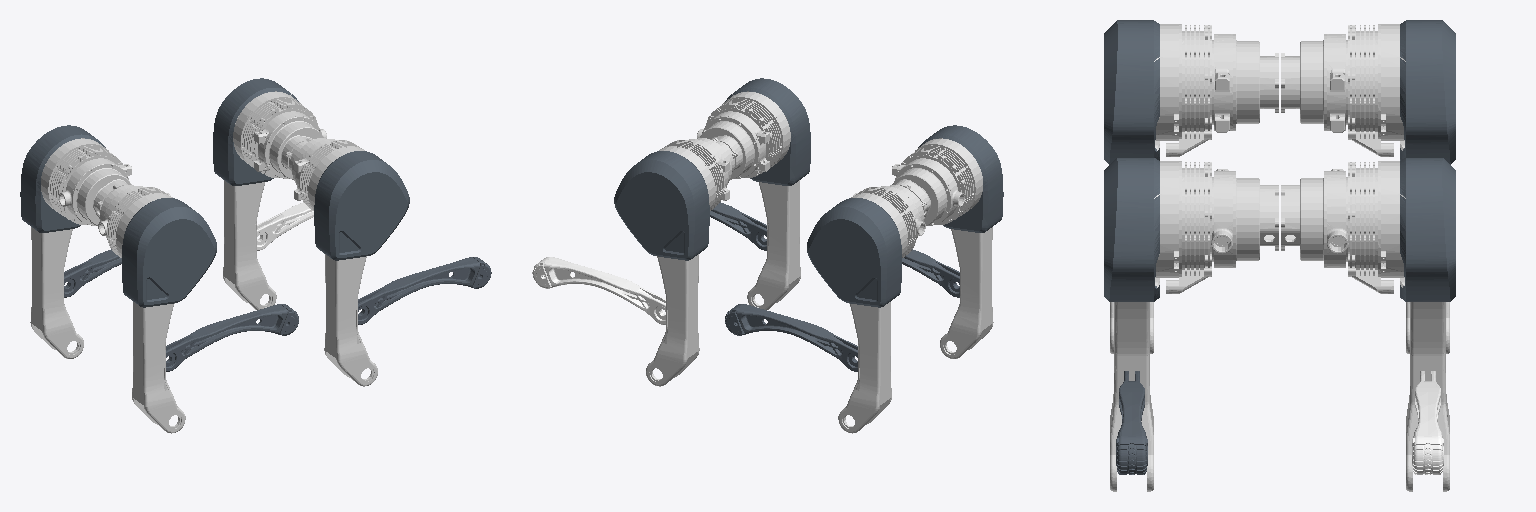
The robot description file, URDF, robot "Lite3":
<?xml version="1.0" encoding="utf-8"?>
<!-- This URDF was automatically created by SolidWorks to URDF Exporter! Originally created by [author] ([email redacted]) 
     Commit Version: 1.6.0-4-g7f85cfe  Build Version: 1.6.7995.38578
     For more information, please see http://wiki.ros.org/sw_urdf_exporter -->
<robot name="Lite3">
    <mujoco>
        <compiler meshdir="../meshes/" balanceinertia="false" discardvisual="false"/>
    </mujoco>
    <link name="TORSO">
        <inertial>
            <origin/>
            <mass value="5.6056"/>
            <inertia ixx="0.02456" ixy="0" ixz="0" iyy="0.05518" iyz="0" izz="0.07016"/>
        </inertial>
        <visual>
            <geometry>
                <mesh filename="../meshes/torso.dae"/>
            </geometry>
        </visual>
        <collision>
            <origin xyz="0 0 0.01"/>
            <geometry>
                <box size="0.5 0.1 0.12"/>
            </geometry>
        </collision>
        <collision>
            <origin xyz="0 0 0.01"/>
            <geometry>
                <box size="0.25 0.2 0.12"/>
            </geometry>
        </collision>
    </link>

    <!--!!!!!!!!!!!! Front Left Leg !!!!!!!!!!!!!!!!!!!!!!!!!!!!!!!!!!!!-->

    <link name="FL_HIP">
        <inertial>
            <origin xyz="-0.00601 -0.0066532 0.00034295"/>
            <mass value="0.550"/>
            <inertia ixx="0.0003949" ixy="0" ixz="0" iyy="0.0004028" iyz="0" izz="0.0004472"/>
        </inertial>
        <visual>
            <geometry>
                <mesh filename="../meshes/hip.dae"/>
            </geometry>
        </visual>
        <collision>
            <origin xyz="0 0.05 0" rpy="1.57079632 0 0"/>
            <geometry>
                <cylinder length="0.15" radius="0.04"/>
            </geometry>
        </collision>
    </link>
    <joint name="FL_HipX_joint" type="revolute">
        <origin xyz="0.1745 0.062 0"/>
        <parent link="TORSO"/>
        <child link="FL_HIP"/>
        <axis xyz="-1 0 0"/>
        <limit lower="-0.523" upper="0.523" effort="24" velocity="26.2"/>
    </joint>
    <link name="FL_THIGH">
        <inertial>
            <origin xyz="-0.0052817 -0.014632 -0.042672"/>
            <mass value="0.86"/>
            <inertia ixx="0.005736" ixy="0" ixz="0" iyy="0.004960" iyz="0" izz="0.001436"/>
        </inertial>
        <visual>
            <geometry>
                <mesh filename="../meshes/thigh.dae"/>
            </geometry>
        </visual>
        <collision>
            <origin xyz="-0.015 0 -0.08" />
            <geometry>
                <box size="0.04 0.045 0.2"/>
            </geometry>
        </collision>
    </link>
    <joint name="FL_HipY_joint" type="revolute">
        <origin xyz="0 0.09735 0"/>
        <parent link="FL_HIP"/>
        <child link="FL_THIGH"/>
        <axis xyz="0 -1 0"/>
        <limit lower="-2.67" upper="0.314" effort="24" velocity="26.2"/>
    </joint>
    <link name="FL_SHANK">
        <inertial>
            <origin xyz="0.0064794 -1.4535E-06 -0.12157"/>
            <mass value="0.153"/>
            <inertia ixx="0.00089039" ixy="0" ixz="0" iyy="0.00090672" iyz="0" izz="3.1266E-05"/>
        </inertial>
        <visual>
            <geometry>
                <mesh filename="../meshes/shank.dae"/>
            </geometry>
            <material name="">
                <color rgba="1 1 1 1"/>
            </material>
        </visual>
        <collision>
            <origin xyz="0.005 0 -0.03" rpy="0 -0.2 0"/>
            <geometry>
                <cylinder length="0.12" radius="0.015"/>
            </geometry>
        </collision>
        <collision>
            <origin xyz="0.01 0 -0.14" rpy="0 0.15 0"/>
            <geometry>
                <cylinder length="0.10" radius="0.015"/>
            </geometry>
        </collision>
    </link>
    <joint name="FL_Knee_joint" type="revolute">
        <origin xyz="0 0 -0.20"/>
        <parent link="FL_THIGH"/>
        <child link="FL_SHANK"/>
        <axis xyz="0 -1 0"/>
        <limit lower="0.524" upper="2.792" effort="36" velocity="17.3"/>
    </joint>

    <link name="FL_FOOT">
        <collision>
            <origin rpy="1.57079632679 0 0" />
            <geometry>
                <sphere radius="0.022"/>
            </geometry>
        </collision>
        <inertial>
            <mass value="0.02"/>
            <inertia ixx="0" ixy="0" ixz="0" iyy="0" iyz="0" izz="0"/>
        </inertial>
    </link>

    <joint name="FL_Ankle" type="fixed" dont_collapse="true">
        <parent link="FL_SHANK"/>
        <child link="FL_FOOT"/>
        <origin xyz="0 0 -0.21012"/>
    </joint>

    <!--!!!!!!!!!!!! Front Right Leg !!!!!!!!!!!!!!!!!!!!!!!!!!!!!!!!!!!!-->
    <link name="FR_HIP">
        <inertial>
            <origin xyz="-0.010579 0.011358 0.00048546"/>
            <mass value="0.550"/>
            <inertia ixx="0.0004472" ixy="0" ixz="0" iyy="0.0004028" iyz="0" izz="0.0003949"/>
        </inertial>
        <visual>
            <geometry>
                <mesh filename="../meshes/hip.dae" scale="1 -1 1"/>
            </geometry>
        </visual>
        <collision>
            <origin xyz="0 -0.05 0" rpy="1.57079632 0 0"/>
            <geometry>
                <cylinder length="0.15" radius="0.04"/>
            </geometry>
        </collision>
    </link>
    <joint name="FR_HipX_joint" type="revolute">
        <origin xyz="0.1745 -0.062 0"/>
        <parent link="TORSO"/>
        <child link="FR_HIP"/>
        <axis xyz="-1 0 0"/>
        <limit lower="-0.523" upper="0.523" effort="24" velocity="26.2"/>
    </joint>
    <link name="FR_THIGH">
        <inertial>
            <origin xyz="-0.0039245 0.025256 -0.025146"/>
            <mass value="0.86"/>
            <!-- inertia ixx="0.00433" ixy="0.00001" ixz="0.00034" iyy="0.00403"  iyz="-0.0000186" izz="0.00143" -->
            <inertia ixx="0.005736" ixy="0" ixz="0" iyy="0.004960" iyz="0" izz="0.001436"/>
        </inertial>
        <visual>
            <geometry>
                <mesh filename="../meshes/thigh.dae" scale="1 -1 1"/>
            </geometry>
        </visual>
        <collision>
            <origin xyz="-0.015 0 -0.08" />
            <geometry>
                <box size="0.04 0.045 0.2"/>
            </geometry>
        </collision>
    </link>
    <joint name="FR_HipY_joint" type="revolute">
        <origin xyz="0 -0.09735 0"/>
        <parent link="FR_HIP"/>
        <child link="FR_THIGH"/>
        <axis xyz="0 -1 0"/>
        <limit lower="-2.67" upper="0.314" effort="24" velocity="26.2"/>
    </joint>
    <link name="FR_SHANK">
        <inertial>
            <origin xyz="0.0064794 -1.4552E-06 -0.12157"/>
            <mass value="0.153"/>
            <inertia ixx="0.00089039" ixy="0" ixz="0" iyy="0.00090672" iyz="0" izz="3.1266E-05"/>
        </inertial>
        <visual>
            <geometry>
                <mesh filename="../meshes/shank.dae"/>
            </geometry>
        </visual>
        <collision>
            <origin xyz="0.005 0 -0.03" rpy="0 -0.2 0"/>
            <geometry>
                <cylinder length="0.12" radius="0.015"/>
            </geometry>
        </collision>
        <collision>
            <origin xyz="0.01 0 -0.14" rpy="0 0.15 0"/>
            <geometry>
                <cylinder length="0.10" radius="0.015"/>
            </geometry>
        </collision>
    </link>
    <joint name="FR_Knee_joint" type="revolute">
        <origin xyz="0 0 -0.20"/>
        <parent link="FR_THIGH"/>
        <child link="FR_SHANK"/>
        <axis xyz="0 -1 0"/>
        <limit lower="0.524" upper="2.792" effort="36" velocity="17.3"/>
    </joint>

    <link name="FR_FOOT">
        <collision>
            <origin rpy="1.57079632679 0 0" />
            <geometry>
                <sphere radius="0.022"/>
            </geometry>
        </collision>
        <inertial>
            <mass value="0.02"/>
            <inertia ixx="0" ixy="0" ixz="0" iyy="0" iyz="0" izz="0"/>
        </inertial>
    </link>

    <joint name="FR_Ankle" type="fixed" dont_collapse="true">
        <parent link="FR_SHANK"/>
        <child link="FR_FOOT"/>
        <origin xyz="0 0 -0.21012"/>
    </joint>

    <!--!!!!!!!!!!!! Back Left Leg !!!!!!!!!!!!!!!!!!!!!!!!!!!!!!!!!!!!-->
    <link name="HL_HIP">
        <inertial>
            <origin xyz="0.010905 -0.012636 0.001051"/>
            <mass value="0.550"/>
            <inertia ixx="0.0003949" ixy="0" ixz="0" iyy="0.0004028" iyz="0" izz="0.0004472"/>
        </inertial>
        <visual>
            <geometry>
                <mesh filename="../meshes/hip.dae" scale="-1 1 1"/>
            </geometry>
        </visual>
        <collision>
            <origin xyz="0 0.05 0" rpy="1.57079632 0 0"/>
            <geometry>
                <cylinder length="0.15" radius="0.04"/>
            </geometry>
        </collision>
    </link>
    <joint name="HL_HipX_joint" type="revolute">
        <origin xyz="-0.1745 0.062 0"/>
        <parent link="TORSO"/>
        <child link="HL_HIP"/>
        <axis xyz="-1 0 0"/>
        <limit lower="-0.523" upper="0.523" effort="24" velocity="26.2"/>
    </joint>
    <link name="HL_THIGH">
        <inertial>
            <origin xyz="-0.0057137 -0.014631 -0.042453"/>
            <mass value="0.86"/>
            <inertia ixx="0.005736" ixy="0" ixz="0" iyy="0.004960" iyz="0" izz="0.001436"/>
        </inertial>
        <visual>
            <geometry>
                <mesh filename="../meshes/thigh.dae"/>
            </geometry>
        </visual>
        <collision>
            <origin xyz="-0.015 0 -0.08" />
            <geometry>
                <box size="0.04 0.045 0.2"/>
            </geometry>
        </collision>
    </link>
    <joint name="HL_HipY_joint" type="revolute">
        <origin xyz="0 0.09735 0"/>
        <parent link="HL_HIP"/>
        <child link="HL_THIGH"/>
        <axis xyz="0 -1 0"/>
        <limit lower="-2.67" upper="0.314" effort="24" velocity="26.2"/>
    </joint>
    <link name="HL_SHANK">
        <inertial>
            <origin xyz="0.0064794 -1.4558E-06 -0.12157"/>
            <mass value="0.153"/>
            <inertia ixx="0.00089039" ixy="0" ixz="0" iyy="0.00090672" iyz="0" izz="3.1266E-05"/>
        </inertial>
        <visual>
            <geometry>
                <mesh filename="../meshes/shank.dae"/>
            </geometry>
        </visual>
        <collision>
            <origin xyz="0.005 0 -0.03" rpy="0 -0.2 0"/>
            <geometry>
                <cylinder length="0.12" radius="0.015"/>
            </geometry>
        </collision>
        <collision>
            <origin xyz="0.01 0 -0.14" rpy="0 0.15 0"/>
            <geometry>
                <cylinder length="0.10" radius="0.015"/>
            </geometry>
        </collision>
    </link>
    <joint name="HL_Knee_joint" type="revolute">
        <origin xyz="0 0 -0.20"/>
        <parent link="HL_THIGH"/>
        <child link="HL_SHANK"/>
        <axis xyz="0 -1 0"/>
        <limit lower="0.524" upper="2.792" effort="36" velocity="17.3"/>
    </joint>

    <link name="HL_FOOT">
        <collision>
            <origin rpy="1.57079632679 0 0" />
            <geometry>
                <sphere radius="0.022"/>
            </geometry>
        </collision>
        <inertial>
            <mass value="0.02"/>
            <inertia ixx="0" ixy="0" ixz="0" iyy="0" iyz="0" izz="0"/>
        </inertial>
    </link>

    <joint name="HL_Ankle" type="fixed" dont_collapse="true">
        <parent link="HL_SHANK"/>
        <child link="HL_FOOT"/>
        <origin xyz="0 0 -0.21012"/>
    </joint>
    <!--!!!!!!!!!!!! Back Right Leg !!!!!!!!!!!!!!!!!!!!!!!!!!!!!!!!!!!!-->

    <link name="HR_HIP">
        <inertial>
            <origin xyz="0.010354 0.011423 0.00049498"/>
            <mass value="0.550"/>
            <inertia ixx="0.0004472" ixy="0" ixz="0" iyy="0.0004028" iyz="0" izz="0.0003949"/>
        </inertial>
        <visual>
            <geometry>
                <mesh filename="../meshes/hip.dae" scale="-1 -1 1"/>
            </geometry>
        </visual>
        <collision>
            <origin xyz="0 -0.05 0" rpy="1.57079632 0 0"/>
            <geometry>
                <cylinder length="0.15" radius="0.04"/>
            </geometry>
        </collision>
    </link>
    <joint name="HR_HipX_joint" type="revolute">
        <origin xyz="-0.1745 -0.062 0"/>
        <parent link="TORSO"/>
        <child link="HR_HIP"/>
        <axis xyz="-1 0 0"/>
        <limit lower="-0.523" upper="0.523" effort="24" velocity="26.2"/>
    </joint>
    <link name="HR_THIGH">
        <inertial>
            <origin xyz="-0.0031903 0.02526 -0.025617"/>
            <mass value="0.86"/>
            <inertia ixx="0.005736" ixy="0" ixz="0" iyy="0.004960" iyz="0" izz="0.001436"/>
        </inertial>
        <visual>
            <geometry>
                <mesh filename="../meshes/thigh.dae" scale="1 -1 1"/>
            </geometry>
        </visual>
        <collision>
            <origin xyz="-0.015 0 -0.08" />
            <geometry>
                <box size="0.04 0.045 0.2"/>
            </geometry>
        </collision>
    </link>
    <joint name="HR_HipY_joint" type="revolute">
        <origin xyz="0 -0.09735 0"/>
        <parent link="HR_HIP"/>
        <child link="HR_THIGH"/>
        <axis xyz="0 -1 0"/>
        <limit lower="-2.67" upper="0.314" effort="24" velocity="26.2"/>
    </joint>
    <link name="HR_SHANK">
        <inertial>
            <origin xyz="0.0064794 -1.4529E-06 -0.12157"/>
            <mass value="0.153"/>
            <inertia ixx="0.00089039" ixy="0" ixz="0" iyy="0.00090672" iyz="0" izz="3.1266E-05"/>
        </inertial>
        <visual>
            <geometry>
                <mesh filename="../meshes/shank.dae"/>
            </geometry>
        </visual>
        <collision>
            <origin xyz="0.005 0 -0.03" rpy="0 -0.2 0"/>
            <geometry>
                <cylinder length="0.12" radius="0.015"/>
            </geometry>
        </collision>
        <collision>
            <origin xyz="0.01 0 -0.14" rpy="0 0.15 0"/>
            <geometry>
                <cylinder length="0.10" radius="0.015"/>
            </geometry>
        </collision>
    </link>
    <joint name="HR_Knee_joint" type="revolute">
        <origin xyz="0 0 -0.20"/>
        <parent link="HR_THIGH"/>
        <child link="HR_SHANK"/>
        <axis xyz="0 -1 0"/>
        <limit lower="0.524" upper="2.792" effort="36" velocity="17.3"/>
    </joint>

    <link name="HR_FOOT">
        <collision>
            <origin rpy="1.57079632679 0 0" />
            <geometry>
                <sphere radius="0.022"/>
            </geometry>
        </collision>
        <inertial>
            <mass value="0.02"/>
            <inertia ixx="0" ixy="0" ixz="0" iyy="0" iyz="0" izz="0"/>
        </inertial>
    </link>

    <joint name="HR_Ankle" type="fixed" dont_collapse="true">
        <parent link="HR_SHANK"/>
        <child link="HR_FOOT"/>
        <origin xyz="0 0 -0.21012"/>
    </joint>
</robot>

--- What the picture shows (computed from the rendered views, not written in the file) ---
The picture shows the robot from 3 angles, left to right: view 1: azimuth 30°, elevation 25°; view 2: azimuth 150°, elevation 25°; view 3: azimuth 270°, elevation 25°; orthographic projection.
Model Lite3 with 17 links and 16 joints (12 revolute, 4 fixed), rooted at TORSO, posed all joints at 0 but 4 set to mid-range because 0 is outside their limits (FL_Knee_joint = 1.66, FR_Knee_joint = 1.66, HL_Knee_joint = 1.66, HR_Knee_joint = 1.66).
Visible links, largest first — view 1: HR_THIGH, FR_THIGH, HL_THIGH, FL_THIGH, FR_SHANK, HR_SHANK, HL_HIP, FL_HIP, HL_SHANK, FL_SHANK, FR_HIP, HR_HIP; view 2: HL_THIGH, FL_THIGH, HR_THIGH, FR_THIGH, FL_SHANK, HL_SHANK, HR_HIP, FR_HIP, HR_SHANK, FR_SHANK, FL_HIP, HL_HIP; view 3: FL_THIGH, FR_THIGH, HL_THIGH, HR_THIGH, FL_HIP, FR_HIP, HL_HIP, HR_HIP, FL_SHANK, FR_SHANK.
Link boxes in pixels (x1=…): HR_THIGH: x1=107, y1=187, x2=216, y2=433; FR_THIGH: x1=299, y1=140, x2=409, y2=386; HL_THIGH: x1=20, y1=125, x2=122, y2=358; FL_THIGH: x1=213, y1=78, x2=317, y2=309; FR_SHANK: x1=358, y1=257, x2=491, y2=324; HR_SHANK: x1=166, y1=304, x2=298, y2=371; HL_HIP: x1=59, y1=158, x2=131, y2=225; FL_HIP: x1=254, y1=111, x2=326, y2=179; HL_SHANK: x1=64, y1=249, x2=121, y2=297; FL_SHANK: x1=257, y1=202, x2=313, y2=250; FR_HIP: x1=288, y1=138, x2=334, y2=200; HR_HIP: x1=98, y1=185, x2=170, y2=238; HL_THIGH: x1=807, y1=187, x2=916, y2=433; FL_THIGH: x1=614, y1=140, x2=724, y2=386; HR_THIGH: x1=901, y1=125, x2=1003, y2=358; FR_THIGH: x1=706, y1=78, x2=810, y2=309; FL_SHANK: x1=532, y1=257, x2=665, y2=324; HL_SHANK: x1=725, y1=304, x2=857, y2=371; HR_HIP: x1=892, y1=158, x2=964, y2=225; FR_HIP: x1=697, y1=111, x2=769, y2=179; HR_SHANK: x1=902, y1=249, x2=959, y2=297; FR_SHANK: x1=710, y1=202, x2=766, y2=250; FL_HIP: x1=689, y1=138, x2=735, y2=200; HL_HIP: x1=853, y1=185, x2=925, y2=238; FL_THIGH: x1=1348, y1=158, x2=1455, y2=491; FR_THIGH: x1=1104, y1=158, x2=1211, y2=491; HL_THIGH: x1=1348, y1=20, x2=1455, y2=353; HR_THIGH: x1=1104, y1=20, x2=1211, y2=353; FL_HIP: x1=1281, y1=169, x2=1348, y2=267; FR_HIP: x1=1211, y1=169, x2=1278, y2=267; HL_HIP: x1=1281, y1=34, x2=1347, y2=132; HR_HIP: x1=1212, y1=34, x2=1278, y2=132; FL_SHANK: x1=1412, y1=371, x2=1443, y2=474; FR_SHANK: x1=1116, y1=371, x2=1147, y2=474.
Size in the robot's own frame: 0.6498 by 0.3791 by 0.3883 metres.
Meshes: 4 distinct files referenced, 12 mesh visuals loaded (3 Collada DAE); not drawn: 1 (reference not matched to a file when rendering).
